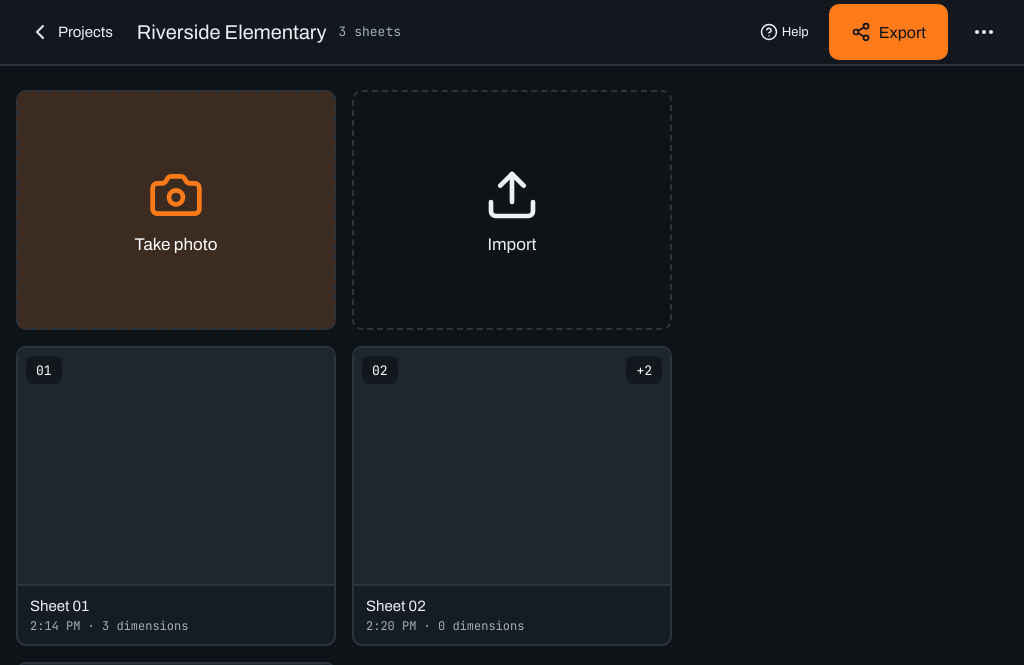
Test: ⋯ → «Trash…» (UI §11.2:711; build spec §11.9:2029) › opens the trash panel, tells the shell, and closes honestly
The width and height of the screenshot is (1024, 665).
Click the button named "More actions": (984, 32) top-left (960, 8), bottom-right (1008, 56)
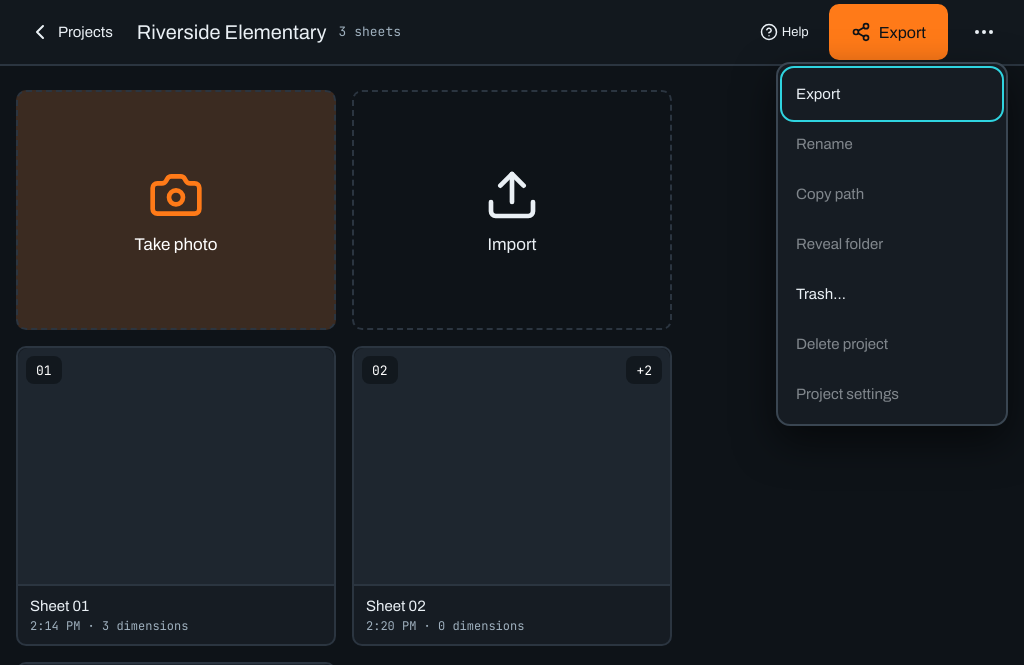
Check: the menu item "Trash…" is enabled
Click the menu item "Trash…": (892, 294) top-left (784, 270), bottom-right (1000, 318)
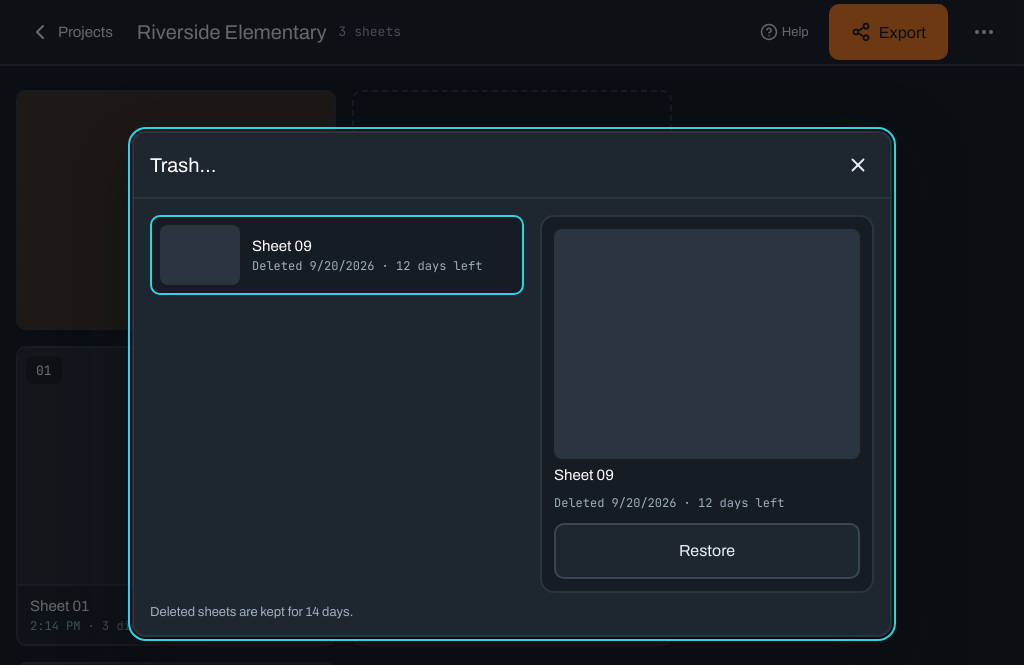
Check: the number of dialogs is 1, box top-left (132, 131), bottom-right (892, 637)
Check: the button with test id "trash-row-t1" is shown, box top-left (150, 215), bottom-right (524, 295)
Click the button with test id "trash-close": (858, 165) top-left (834, 141), bottom-right (882, 189)
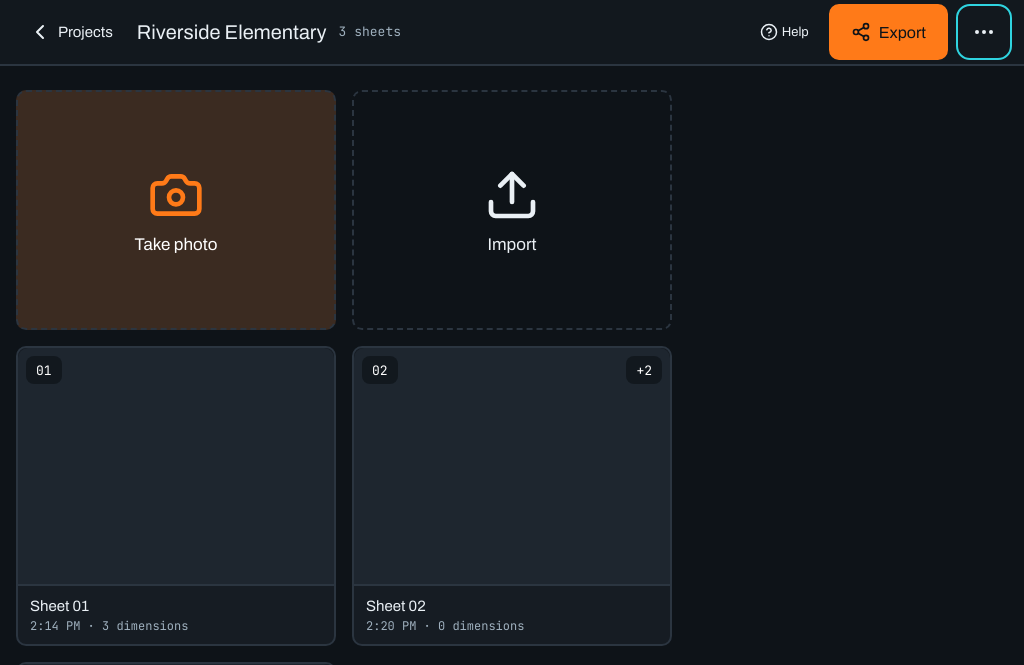
Check: the dialog with test id "trash-panel" is gone
